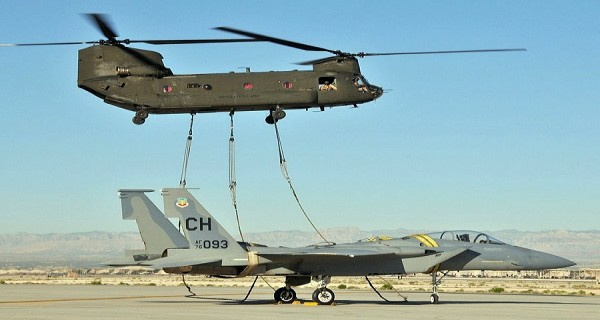chinook: (27, 10, 477, 127)
